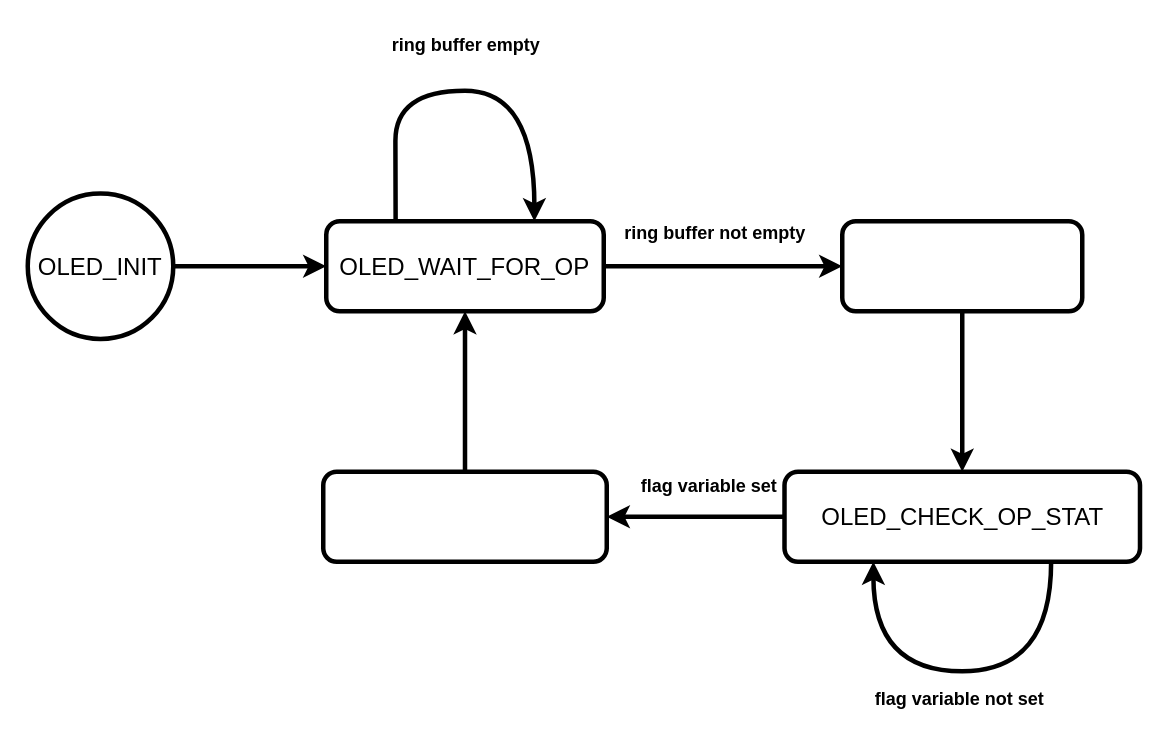
The diagram is 1169 pixels wide and 744 high, and some of its shapes have lost their labels. The shapes that lost their labels are listed below. From the top down, each one's centre as x and y in pixels, then its label:
At (961,265): "OLED_START_OP".
At (464,516): "OLED_WRAP_UP_OP".
